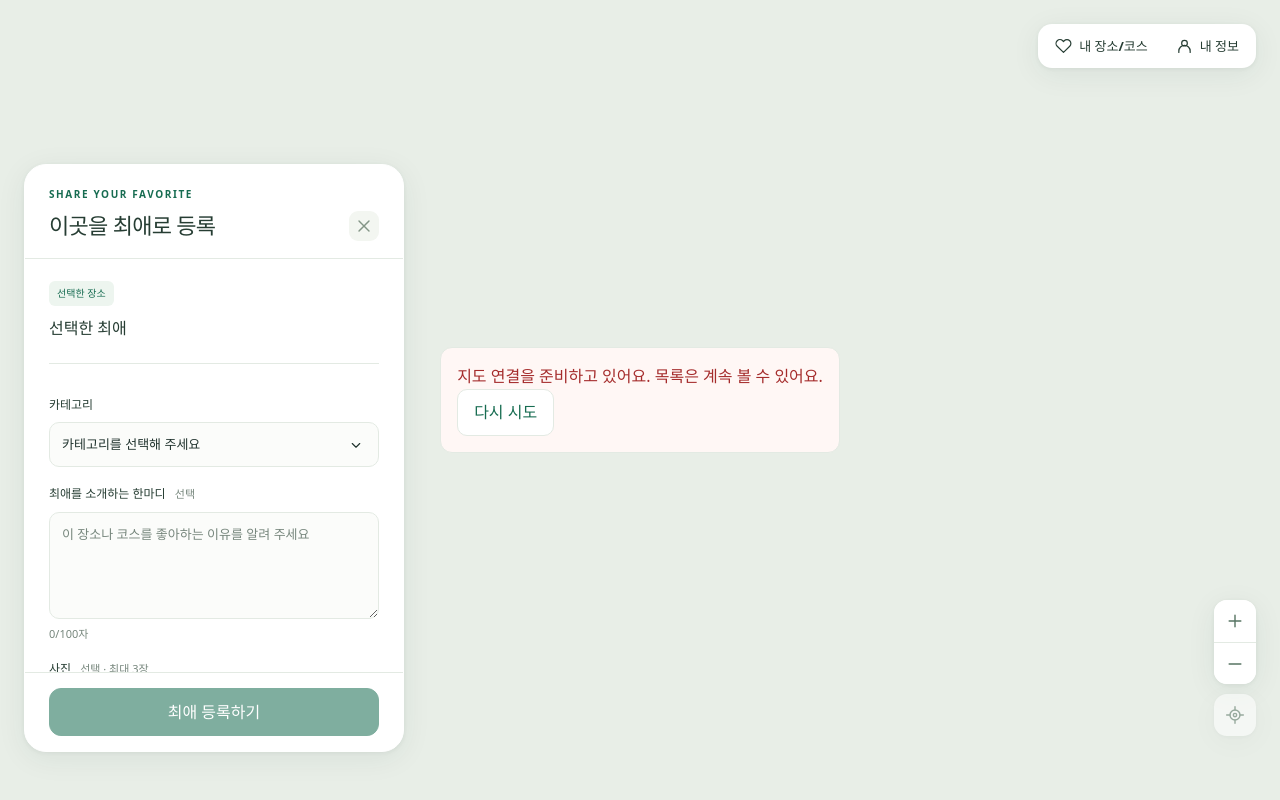
Test: returns to detail after a refreshed registration URL (edit=false)
expect the heading "이곳을 최애로 등록" is shown: met, box [49,211,215,240]
Click the button named "패널 닫기" at x=364, y=226, box [349,210,379,240]
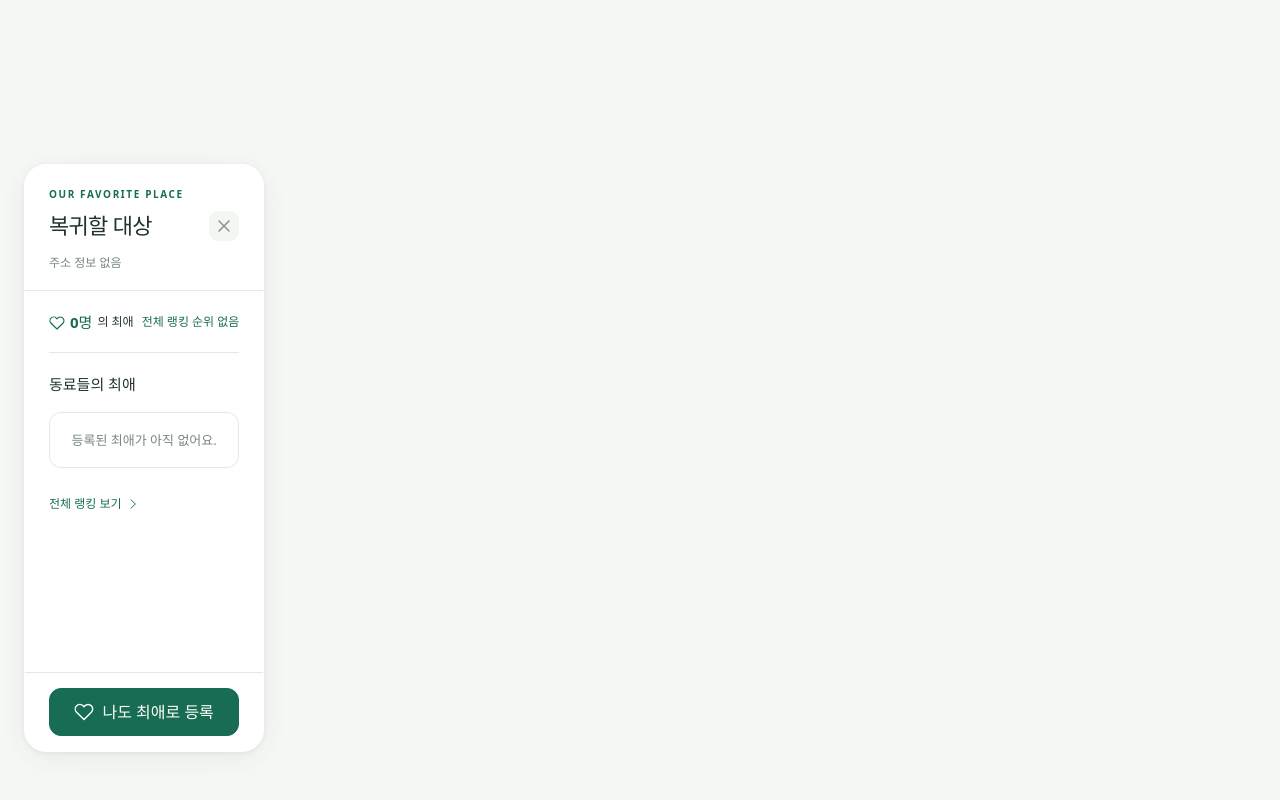
expect the heading "복귀할 대상" is shown: met, box [49,211,152,240]
